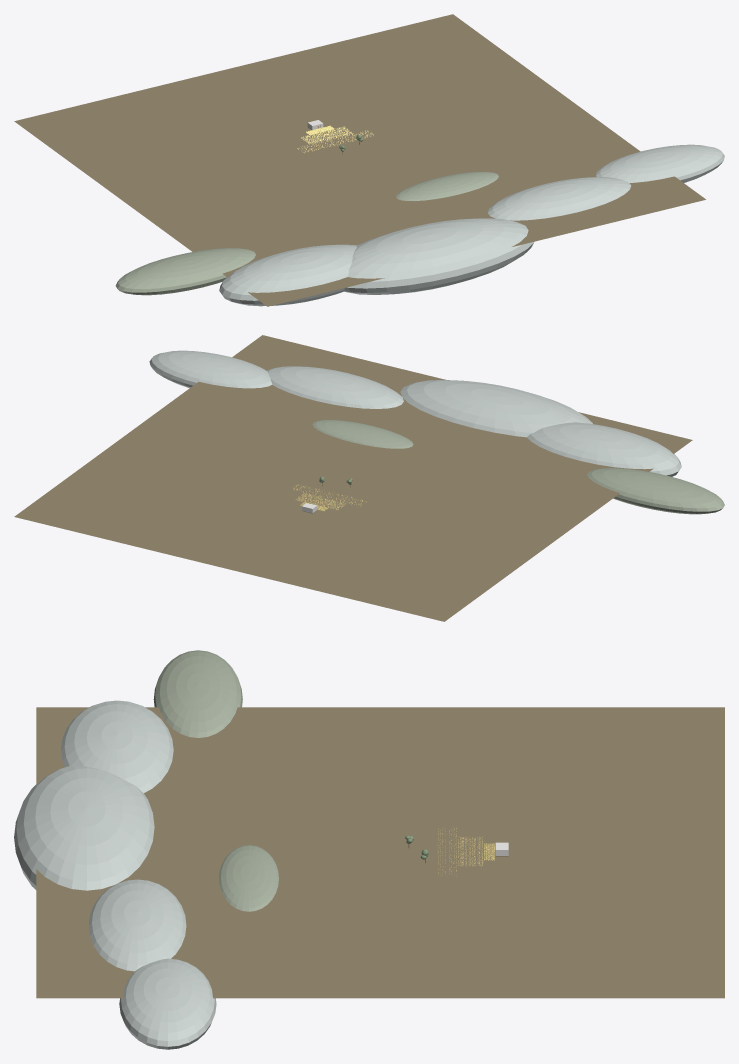
Rendered from wheat.glb.
3 views of the same model, one above another, from view 1: azimuth 30°, elevation 25°; view 2: azimuth 150°, elevation 25°; view 3: azimuth 270°, elevation 25° (orthographic). The views are drawn at different scales.
Parts seen in each view (by area): view 1: FieldGround, Hill_1, Hill_0, Hill_4, Hill_2, Hill_3, Hill_5; view 2: FieldGround, Hill_1, Hill_0, Hill_4, Hill_2, Hill_3, Hill_5; view 3: FieldGround, Hill_1, Hill_0, Hill_2, Hill_3, Hill_4, Hill_5.
Part boxes in pixels (x1,y1,x2,y2): FieldGround: (14,14,705,306); Hill_1: (344,218,534,294); Hill_0: (219,244,356,306); Hill_4: (115,248,255,295); Hill_2: (487,177,631,220); Hill_3: (596,144,724,182); Hill_5: (396,172,498,201); FieldGround: (14,335,692,621); Hill_1: (400,380,592,437); Hill_0: (527,422,681,476); Hill_4: (587,468,724,514); Hill_2: (267,366,403,408); Hill_3: (149,350,272,388); Hill_5: (312,420,413,448); FieldGround: (36,707,724,998); Hill_1: (14,765,154,890); Hill_0: (61,700,173,792); Hill_2: (88,879,186,971); Hill_3: (119,958,216,1049); Hill_4: (153,650,242,737); Hill_5: (219,845,278,911).
Bounding box in the file's own units: 460 × 32 × 351.
